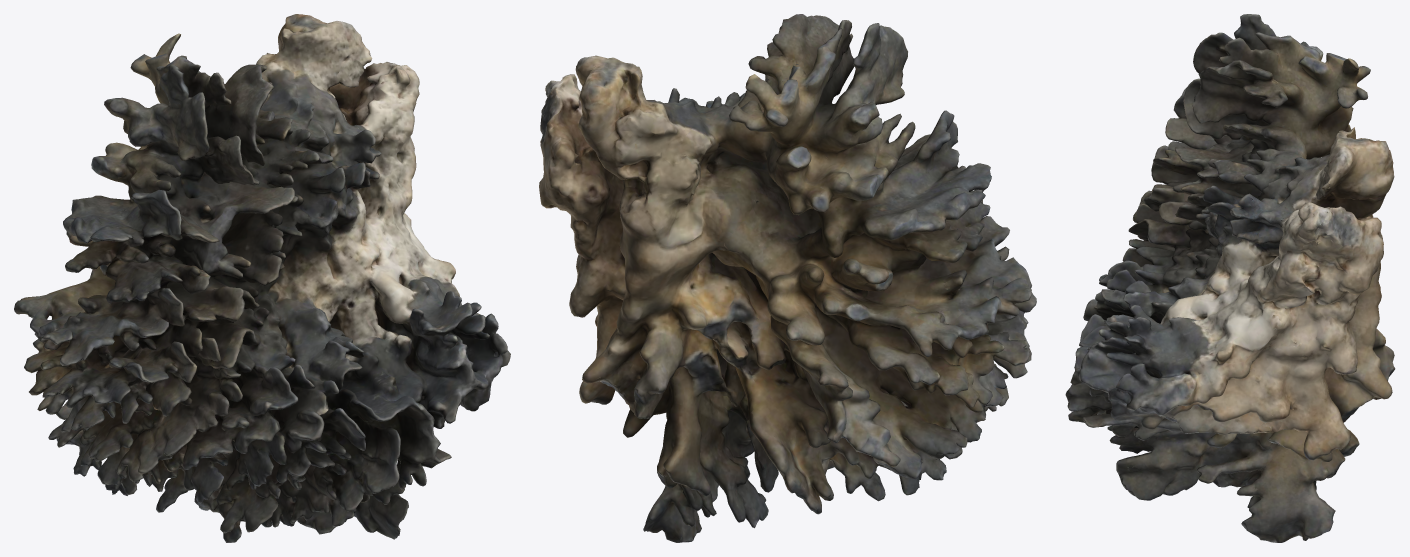
Rendered from USNM_1145291-150k-2048-medium-100k-2048_draco.glb.
The picture shows the model from 3 angles, left to right: view 1: azimuth 30°, elevation 25°; view 2: azimuth 150°, elevation 25°; view 3: azimuth 270°, elevation 25°; orthographic projection. The views are drawn at different scales.
Size of the model in its own units: 0.3759 by 0.4408 by 0.2864.
Materials: 1 (1 with a texture image).
